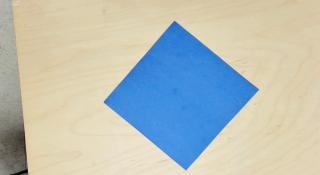Square: (103, 22, 259, 171)
